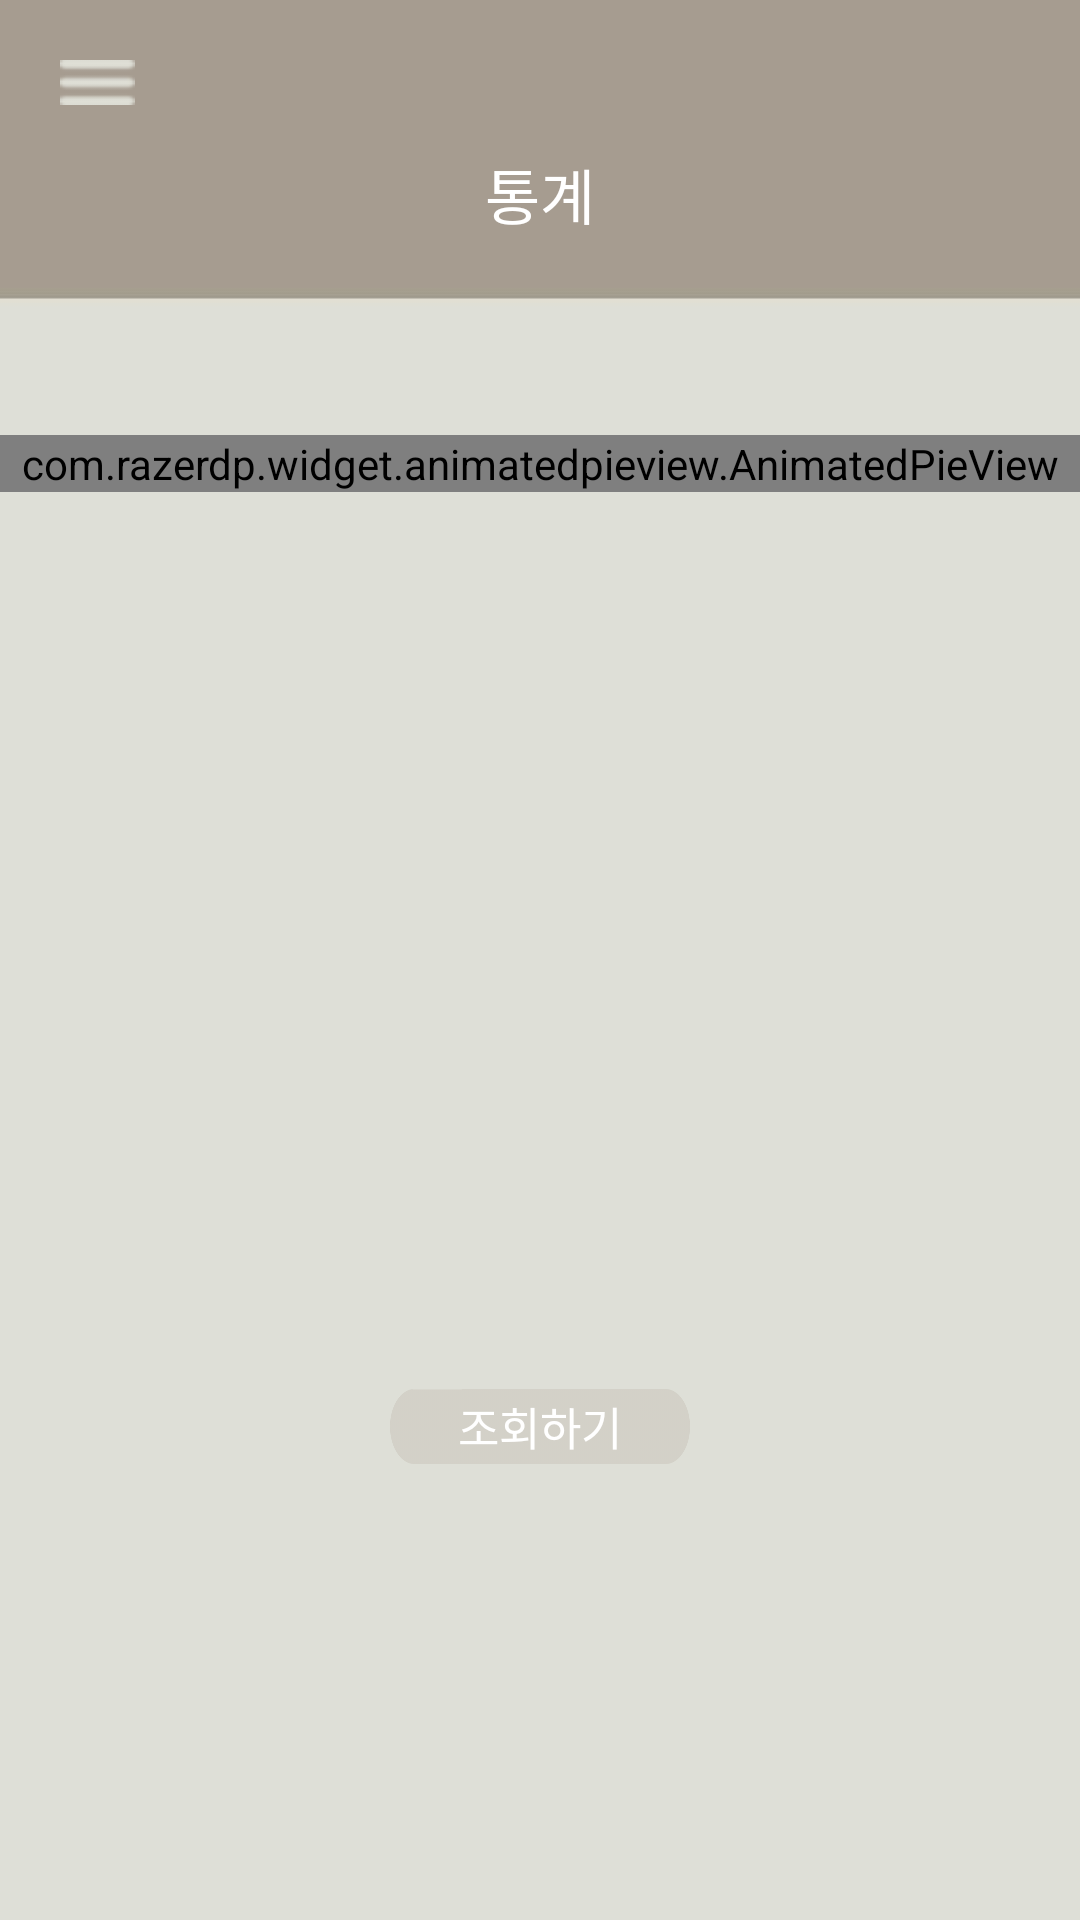

Point at icon controls on the screen. Image size 1080px x 1920px, points as (x,y).
menu: (97,82)
